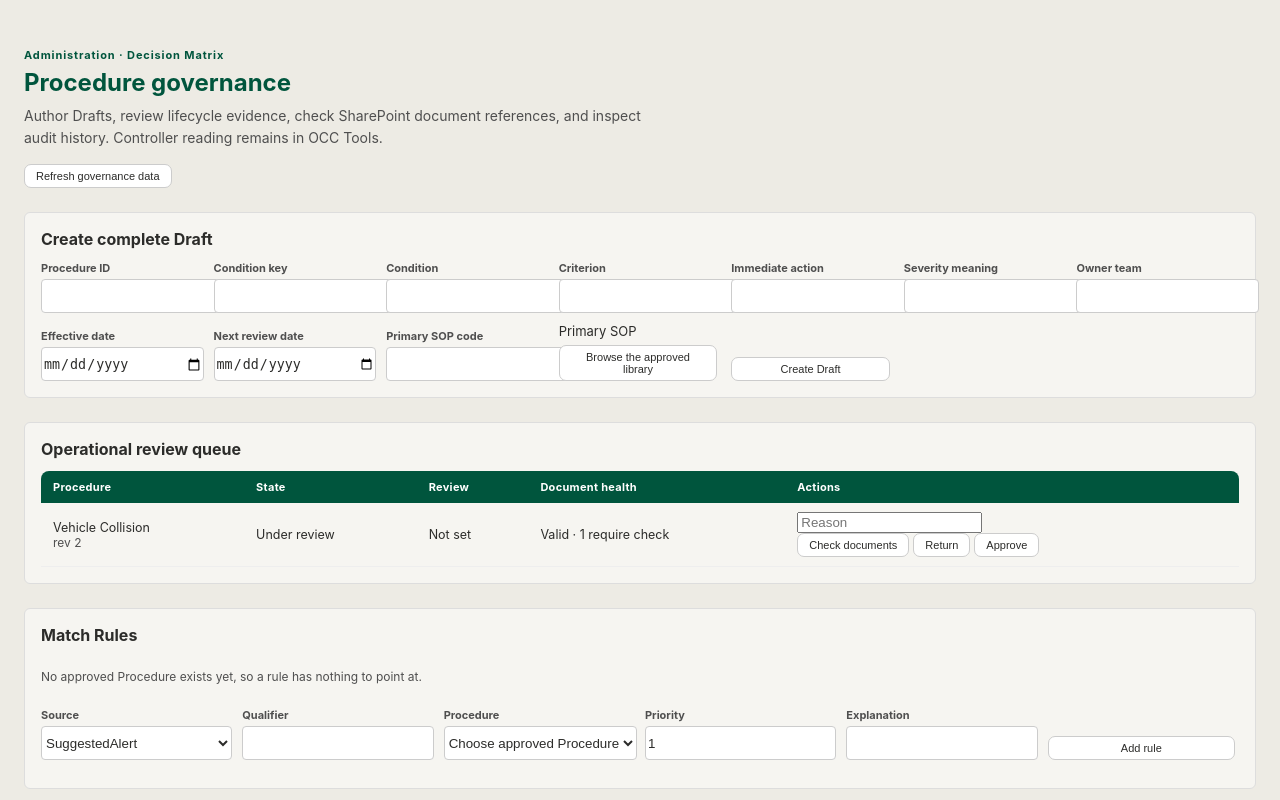
Test: Decision Matrix administration › document checks on a governance row › says checks are not configured rather than reporting a document problem
This screenshot has width=1280, height=800.
Click the button "Check documents": (853, 545) [797,533,909,557]
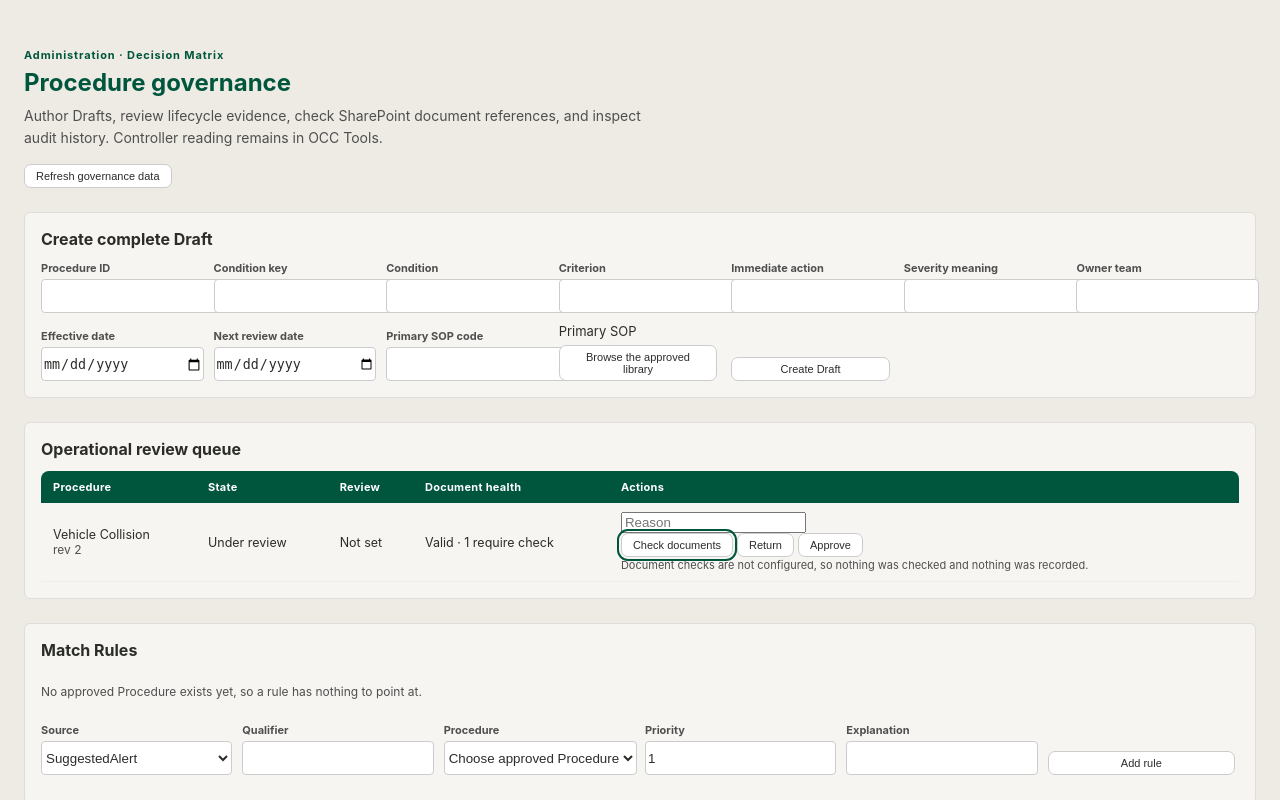
Now the text "Document checks are not configured" is shown, box [621,558,1088,572]
